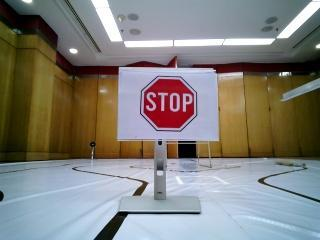stop: (128, 72, 206, 134)
